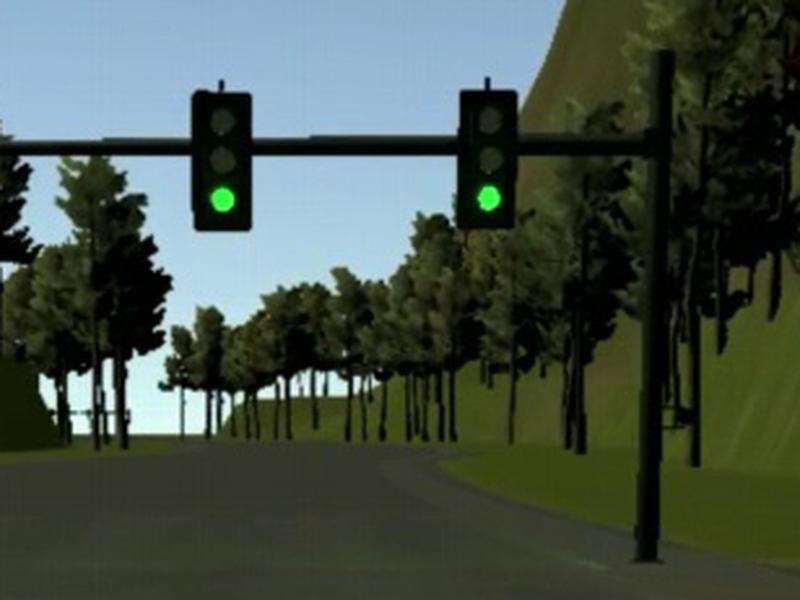Green: (456, 90, 518, 229), (190, 92, 252, 230)
